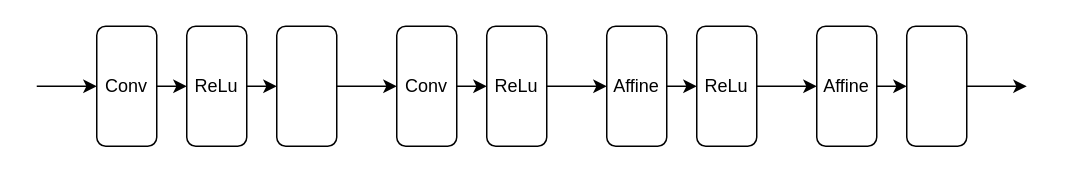
Some shapes in this 1065 by 173 pixel diagram are drawn without their labels. The shapes that lost their labels are listed below. From the top down, each one's centre as x and y in pixels, then its label:
At (306,85): "Pooling".
At (936,85): "Softmax".
